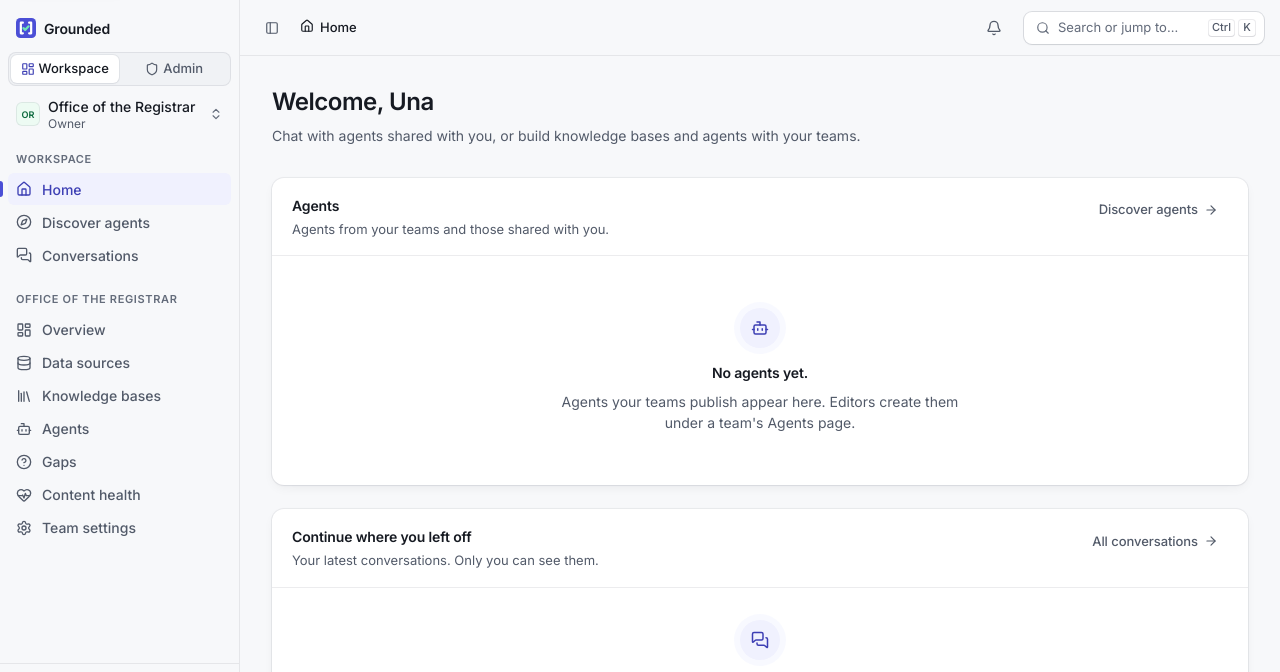
Test: ⌘K admin pages (I1) › finds “oauth”
expect the navigation bar named "Main" is shown: met, box [8, 150, 231, 544]
Type keys "{Control>}k{/Control}"
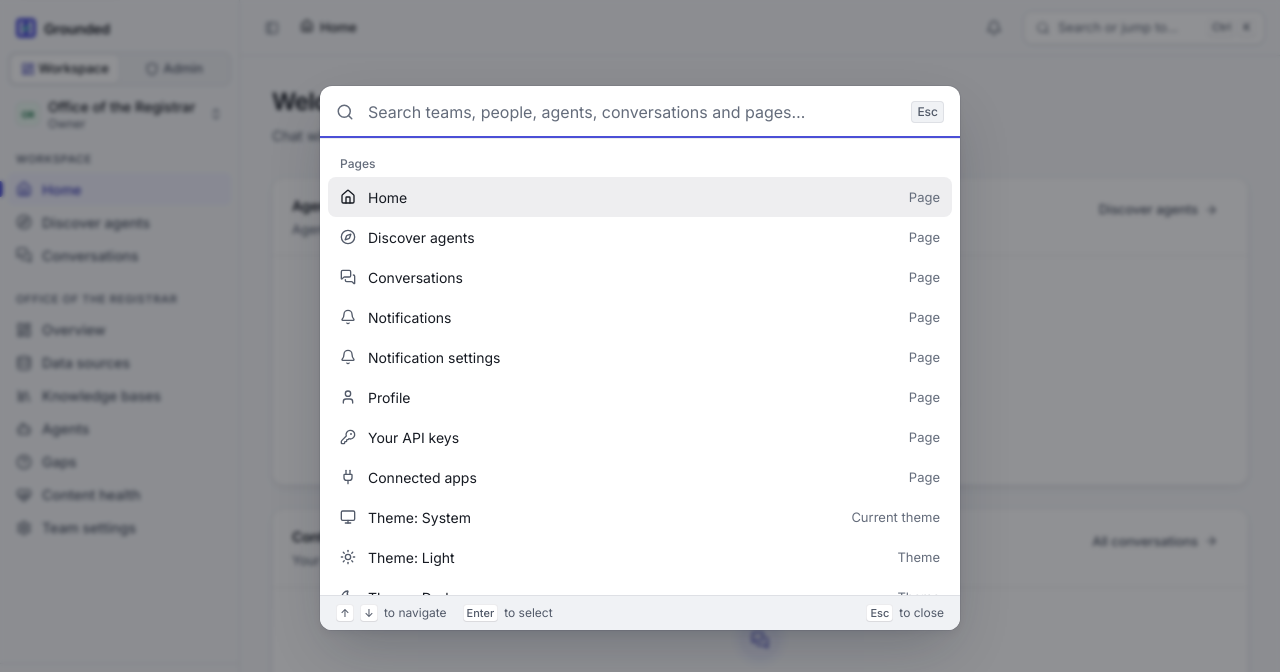
Type "oauth" into the dropdown named "Command palette".
click(633, 112); type("oauth")  # box [366, 86, 899, 138]
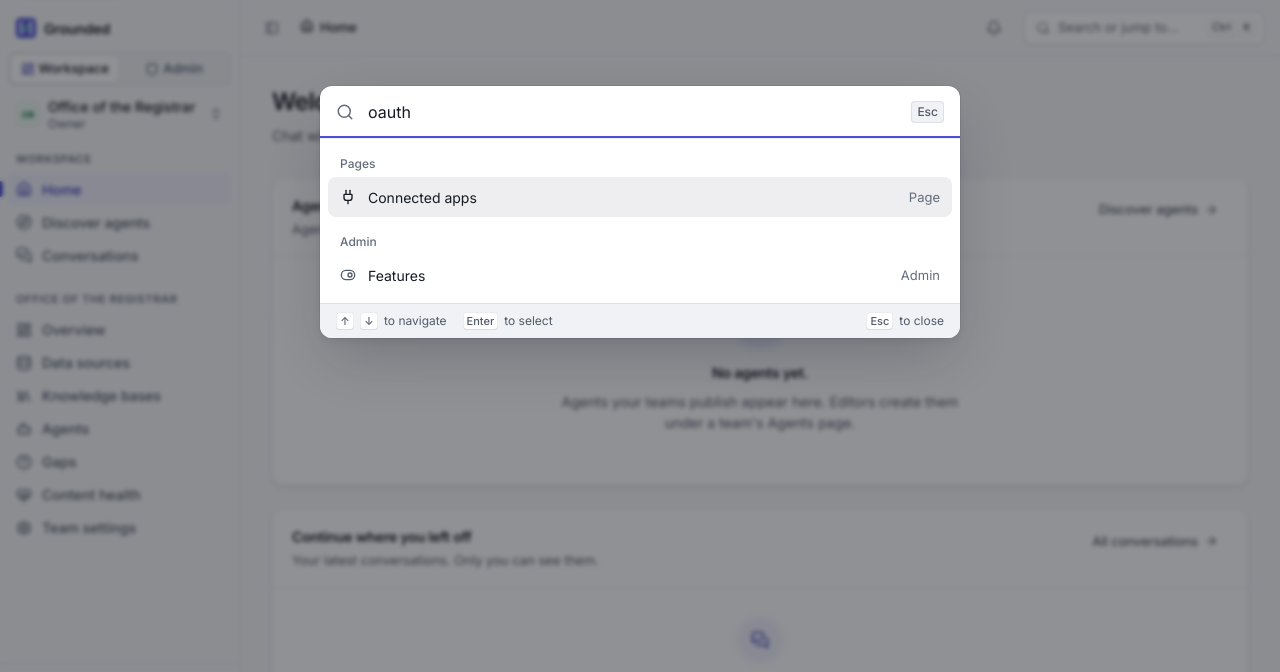
expect the option "Features Admin" is shown: met, box [340, 267, 940, 284]
